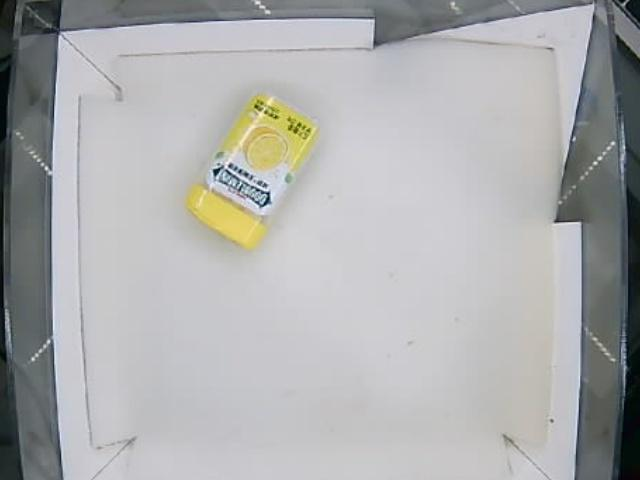Bottle: (189, 91, 319, 254)
